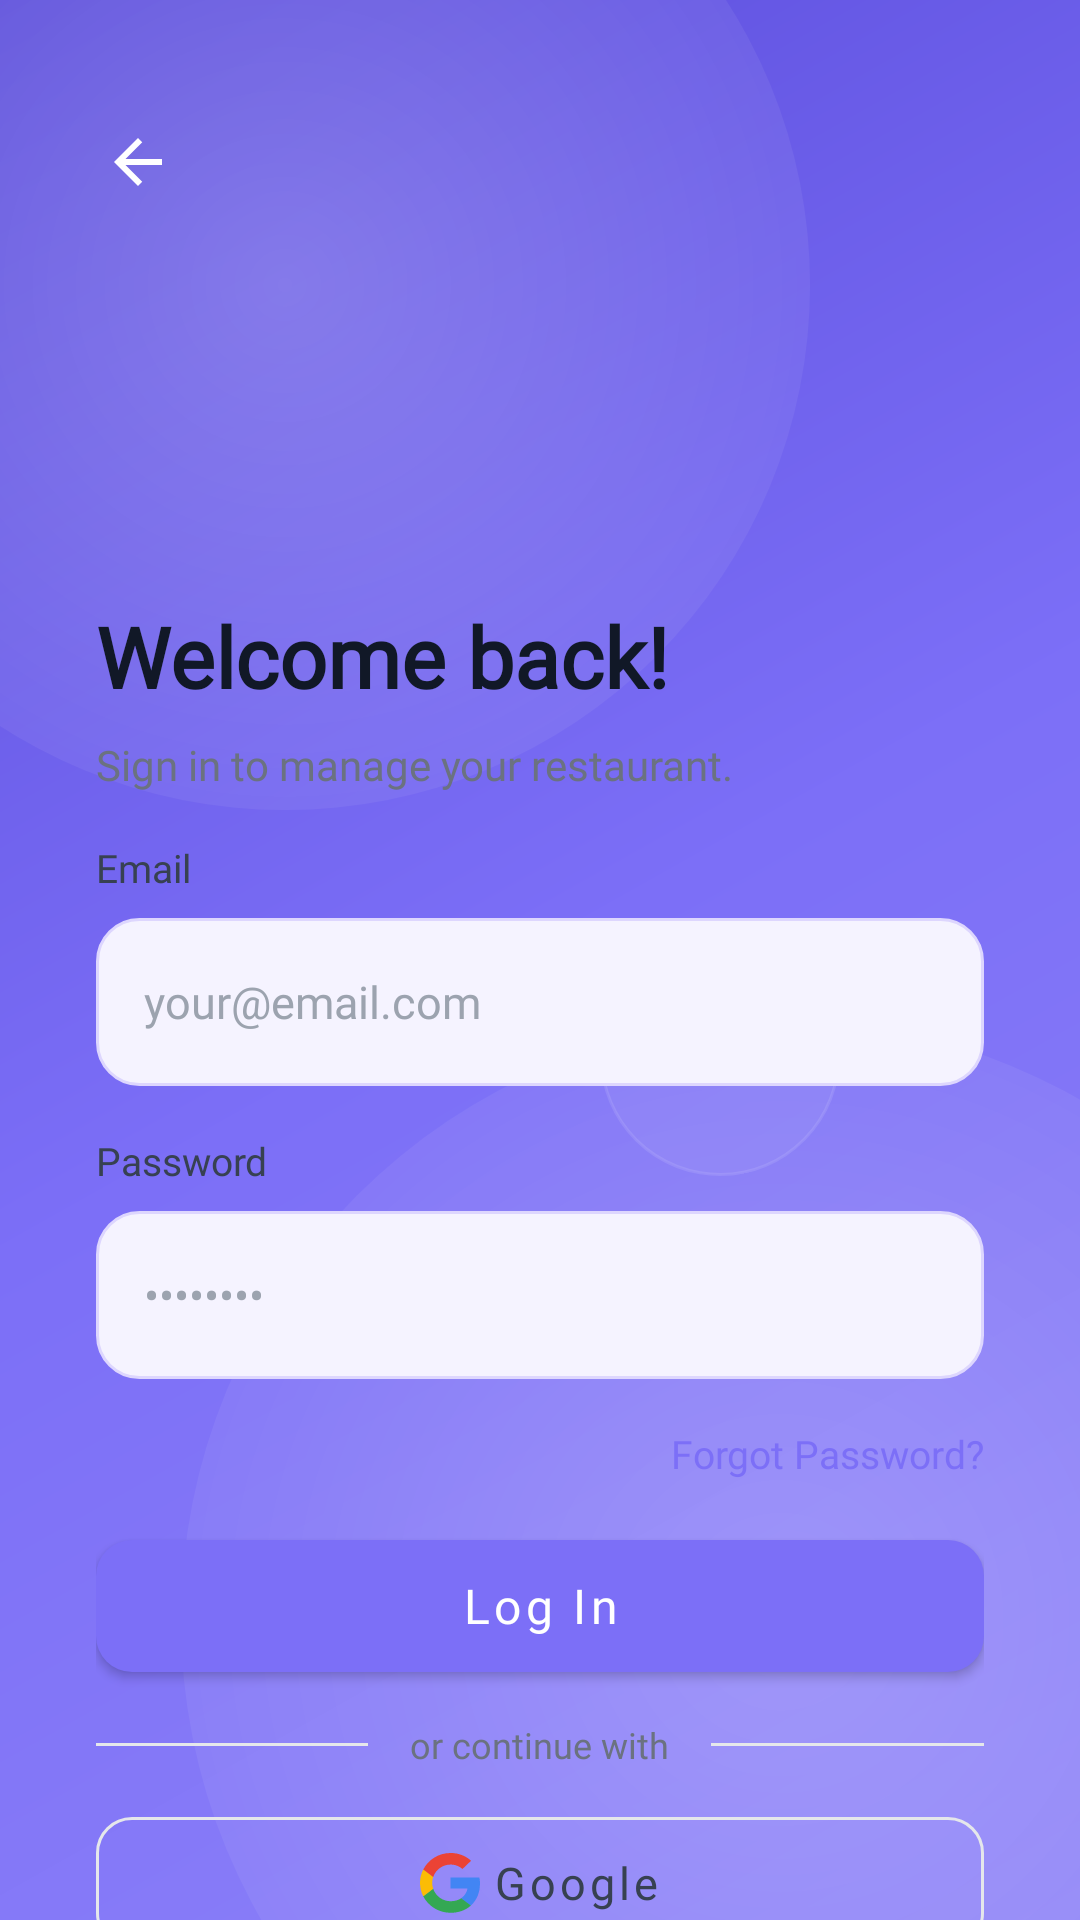

Icon click points for this 1080w x 1920h phone screenshot, format point (x, y):
Back: point (138, 162)
